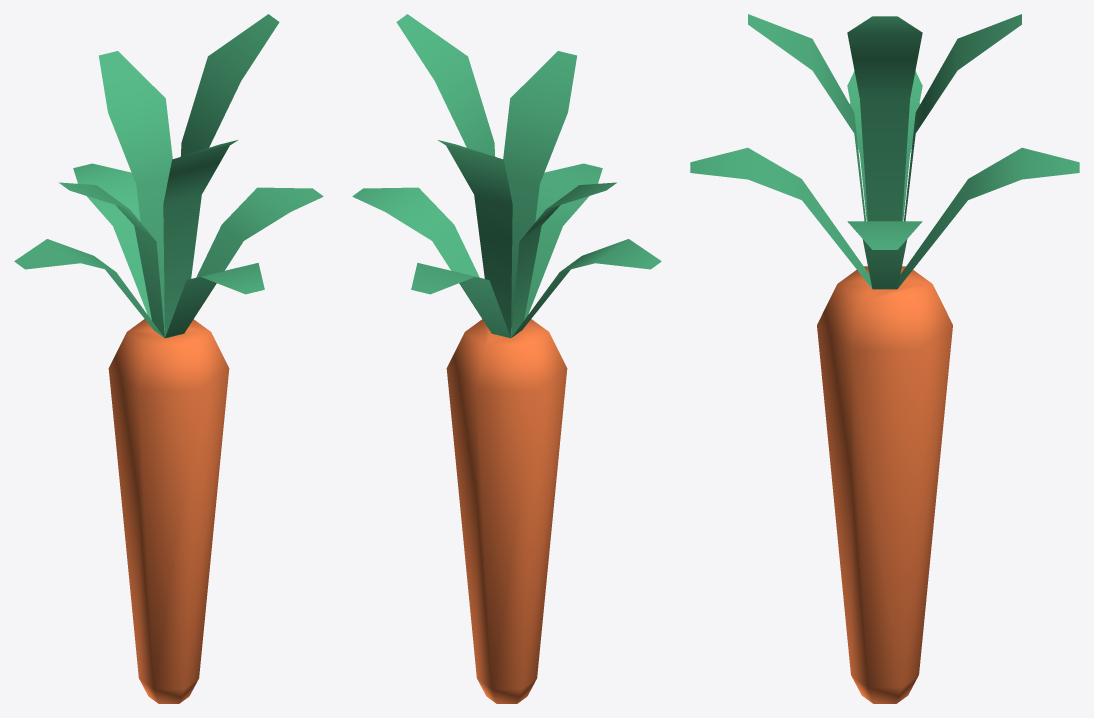
The model's file is cenoura.glb.
3 renders of one model, left to right at view 1: azimuth 30°, elevation 25°; view 2: azimuth 150°, elevation 25°; view 3: azimuth 270°, elevation 25°, orthographic. The views are drawn at different scales.
Visible parts, largest first — view 1: carrot; view 2: carrot; view 3: carrot.
Boxes of the visible parts, bbox=[...] form: carrot: bbox=[14, 14, 323, 703]; carrot: bbox=[352, 14, 661, 703]; carrot: bbox=[690, 14, 1079, 703].
Size of the model in its own units: 0.3431 by 0.7163 by 0.3431.
